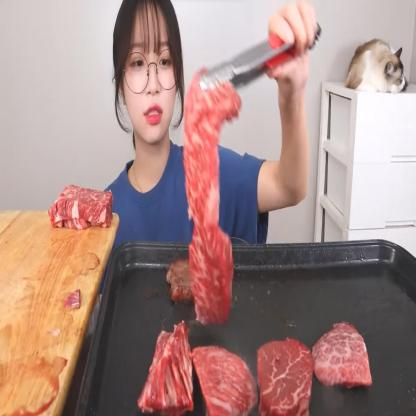streamer: (83, 0, 317, 249)
